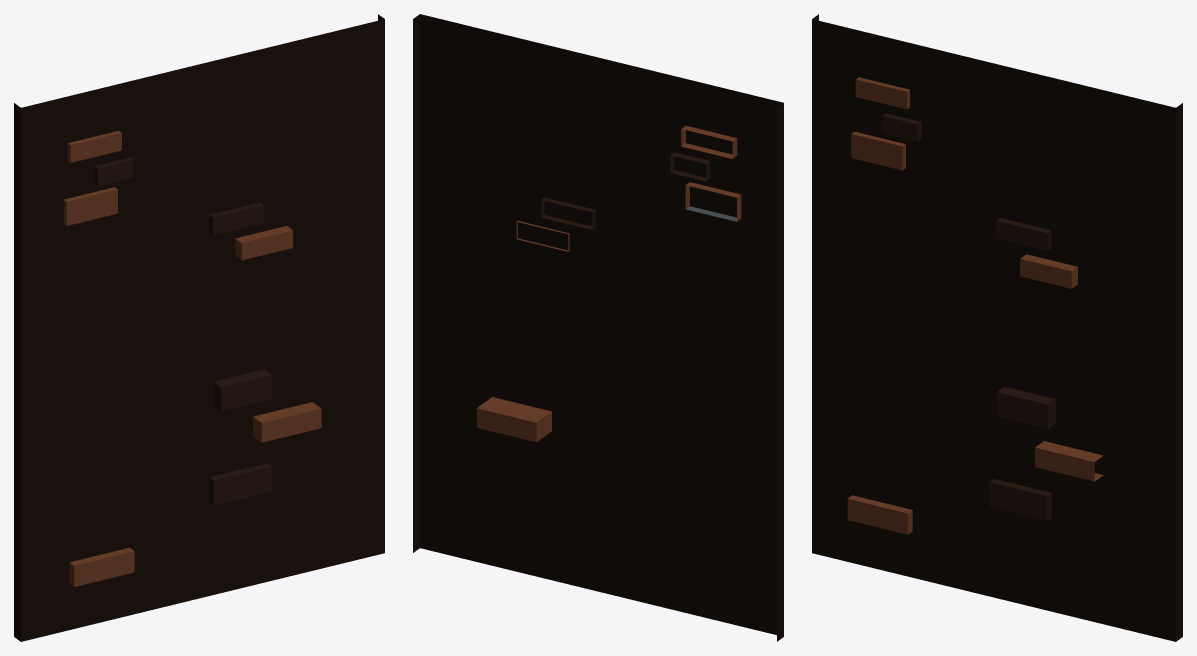
Rendered from Wall_plane_Banquet_Geo.fbx.
3 views of the same model, side by side, from view 1: azimuth 30°, elevation 25°; view 2: azimuth 150°, elevation 25°; view 3: azimuth 330°, elevation 25° (orthographic).
Visible parts, largest first — view 1: wall_plain_geo; view 2: wall_plain_geo; view 3: wall_plain_geo.
Boxes of the visible parts, x1,y1,x2,y2 form: wall_plain_geo: (14, 14, 384, 641); wall_plain_geo: (413, 14, 783, 641); wall_plain_geo: (812, 14, 1182, 641).
Bounding box in the file's own units: 2692 × 3776 × 312.
